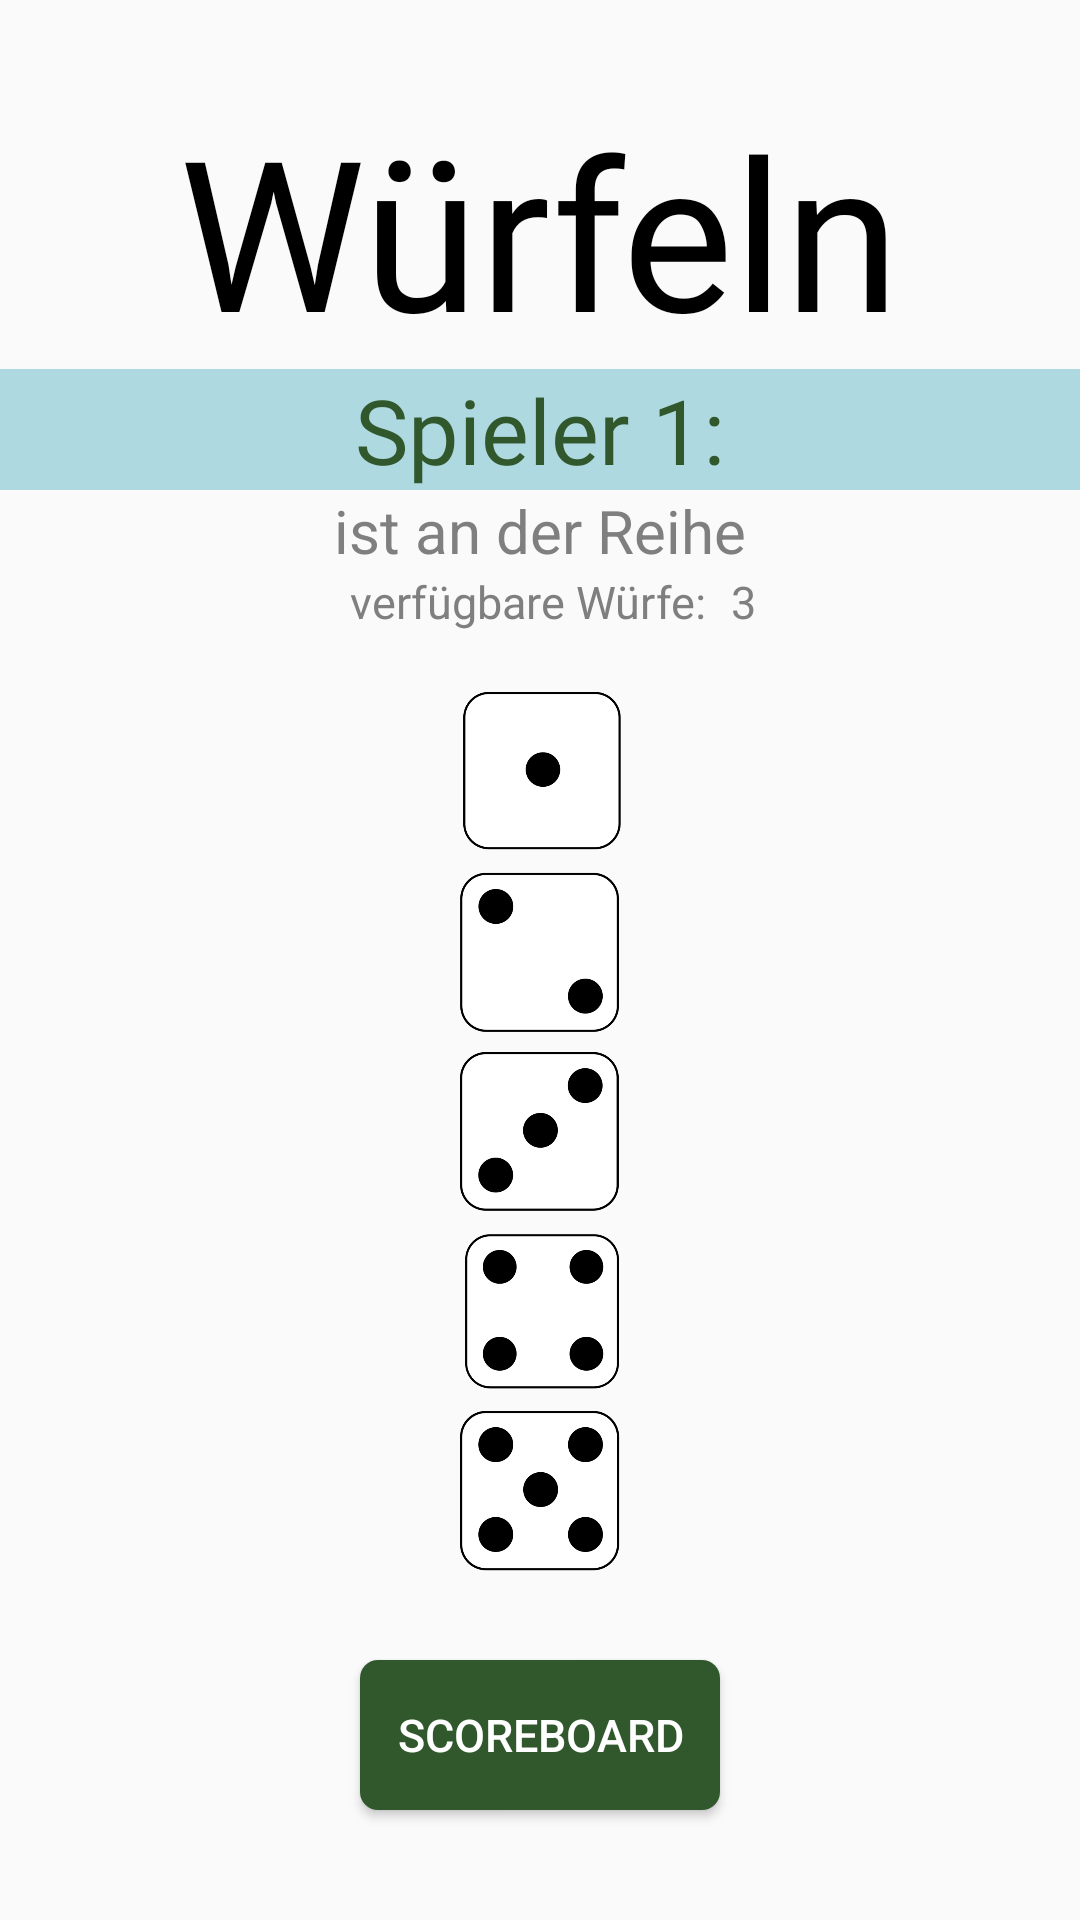

Screen size 1080w x 1920h. Icon name, then its center in pixels as [x,y]:
Würfel 1: [542,771]
Würfel 2: [539,952]
Würfel 3: [539,1131]
Würfel 4: [542,1311]
Würfel 5: [539,1491]
